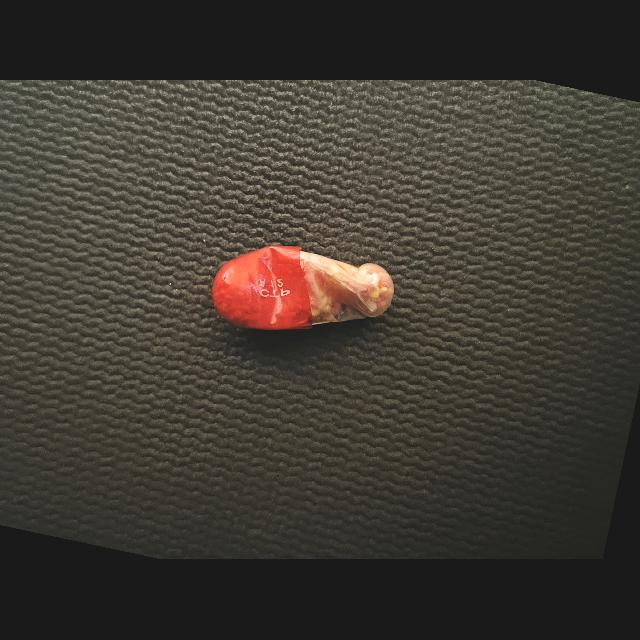Defective Capsule: (212, 246, 394, 330)
